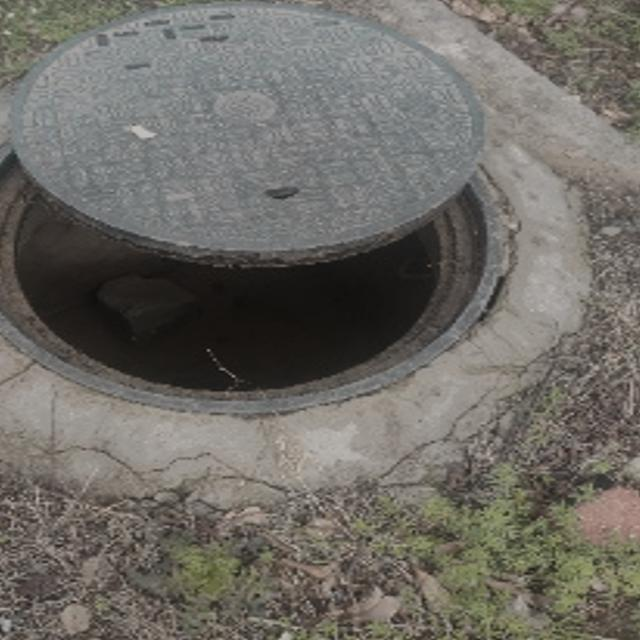uncovered: (0, 0, 514, 424)
